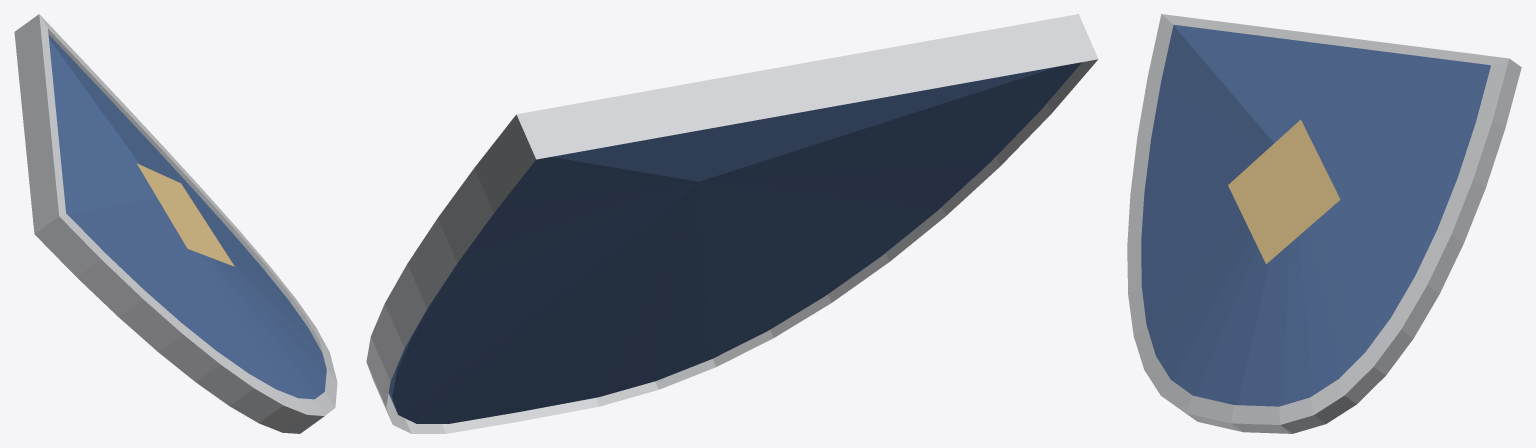
The model's file is shield_heater.glb.
The picture shows the model from 3 angles, left to right: view 1: azimuth 30°, elevation 25°; view 2: azimuth 150°, elevation 25°; view 3: azimuth 270°, elevation 25°; orthographic projection. The views are drawn at different scales.
Parts seen in each view (by area): view 1: shield_heater; view 2: shield_heater; view 3: shield_heater.
Boxes of the visible parts, x1=… form: shield_heater: x1=14, y1=14, x2=337, y2=433; shield_heater: x1=366, y1=14, x2=1098, y2=433; shield_heater: x1=1127, y1=14, x2=1521, y2=433.
Bounding box in the file's own units: 0.2182 × 0.1891 × 0.2174.
